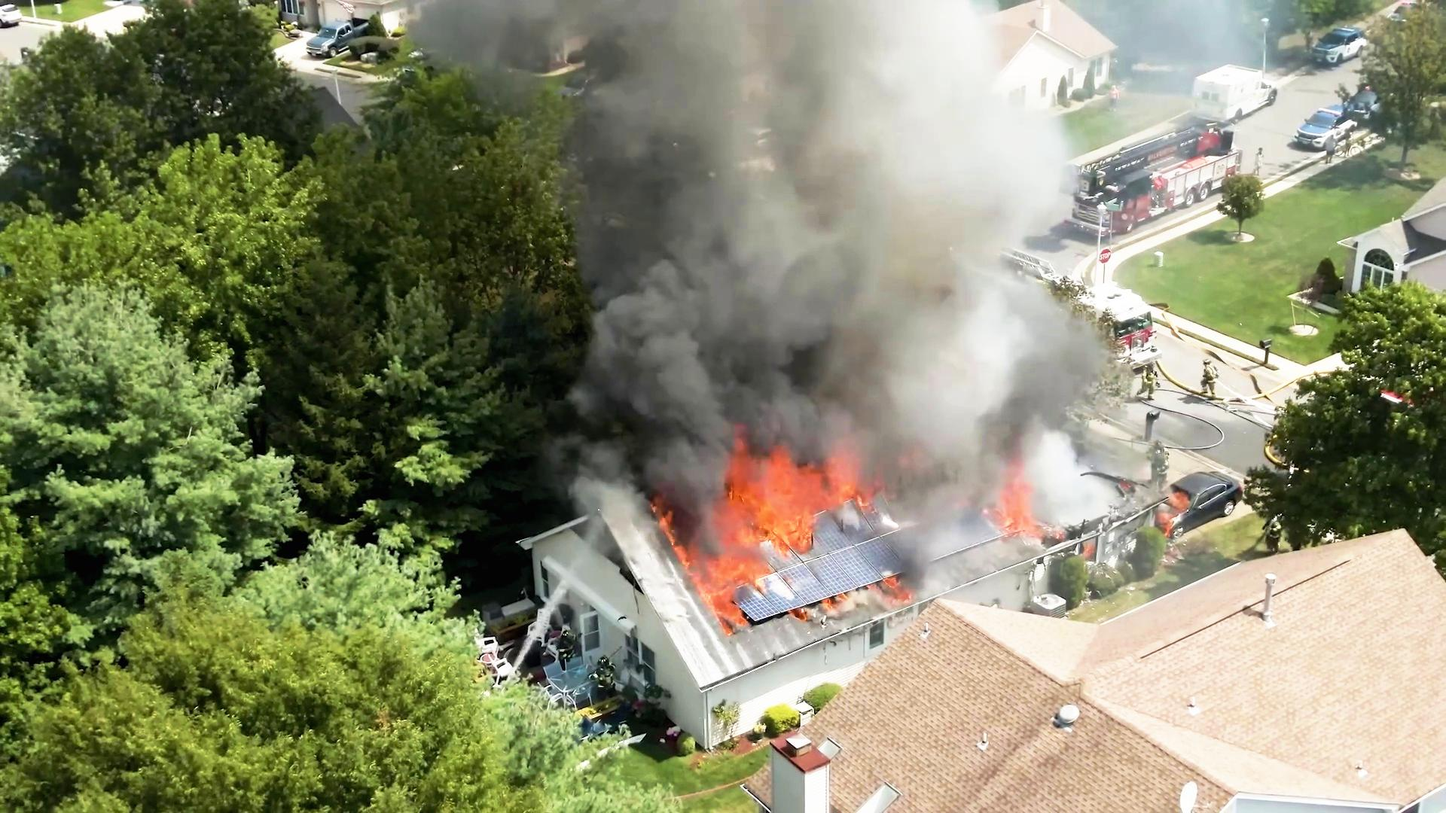fire: (635, 432, 841, 604), (984, 457, 1032, 539)
smoke: (627, 123, 858, 422), (564, 0, 987, 162)
